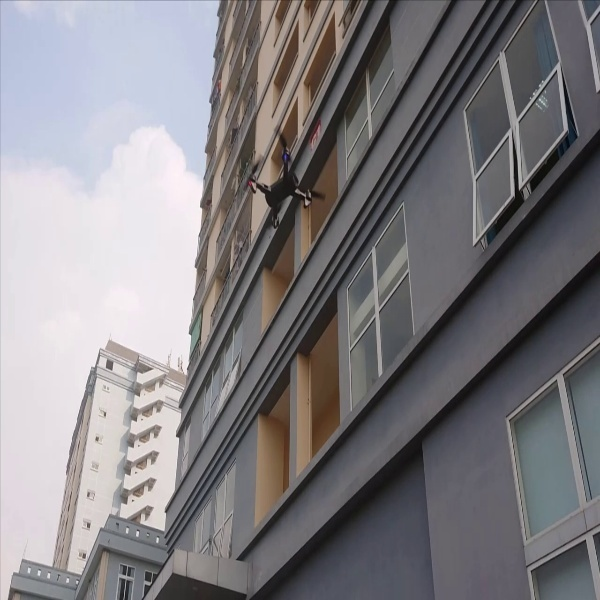drone: (238, 134, 330, 231)
